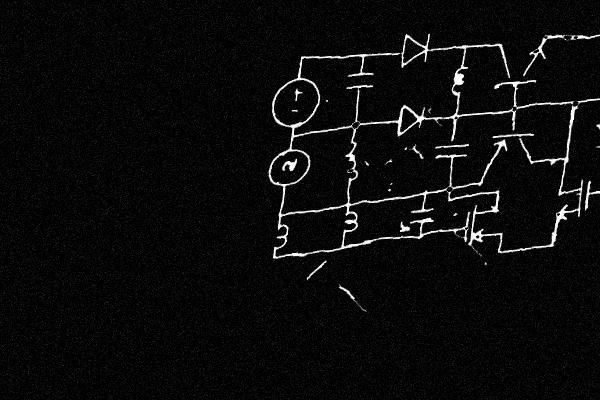capacitor: (431, 136, 471, 166), (344, 63, 377, 98), (408, 202, 437, 229)
diode: (394, 29, 433, 70), (390, 101, 428, 139), (590, 115, 600, 151)
inductor: (339, 132, 364, 190), (449, 61, 471, 101), (339, 206, 361, 239), (272, 218, 291, 254)
signal: (265, 144, 314, 192)
voltage: (268, 71, 325, 134)
